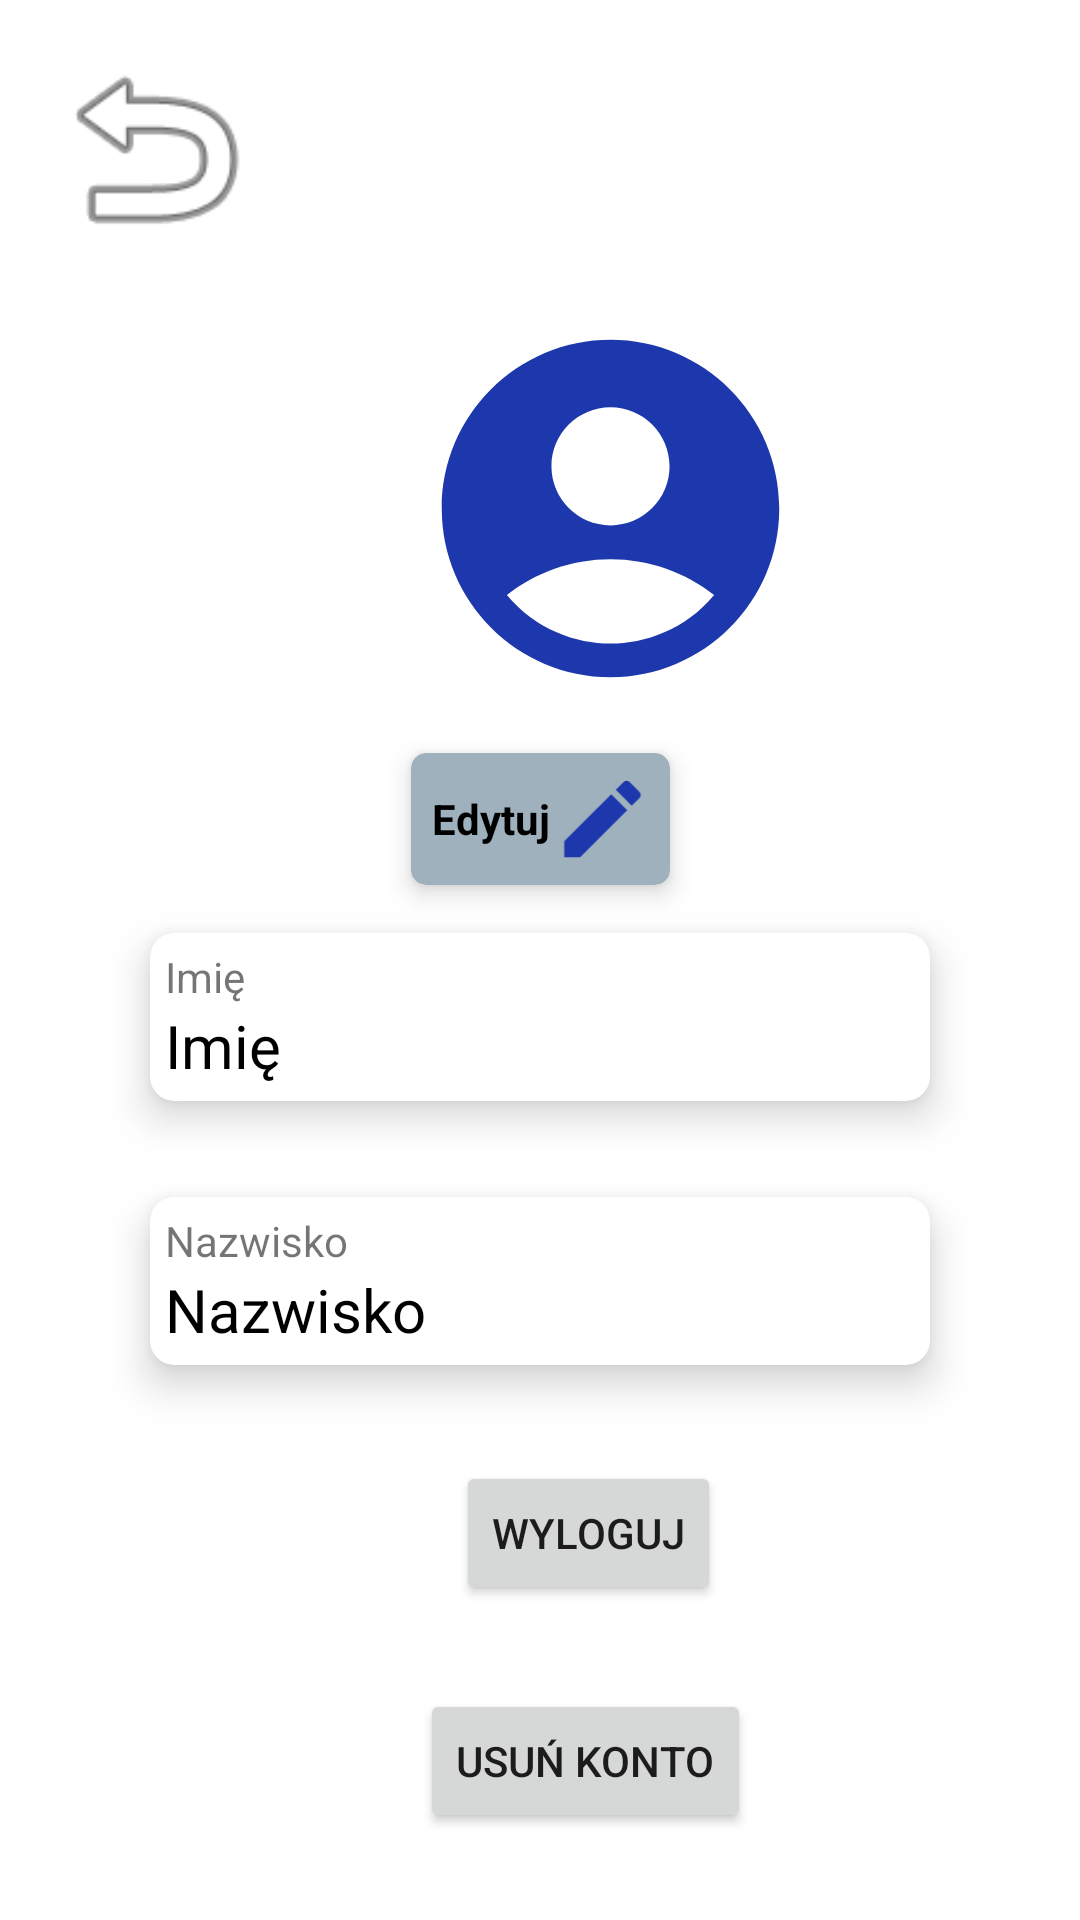

Icons on this 1080 x 1920 Android screen, each with the point to tap as (x=x, y=y):
profile: (x=610, y=508)
revert: (x=157, y=150)
